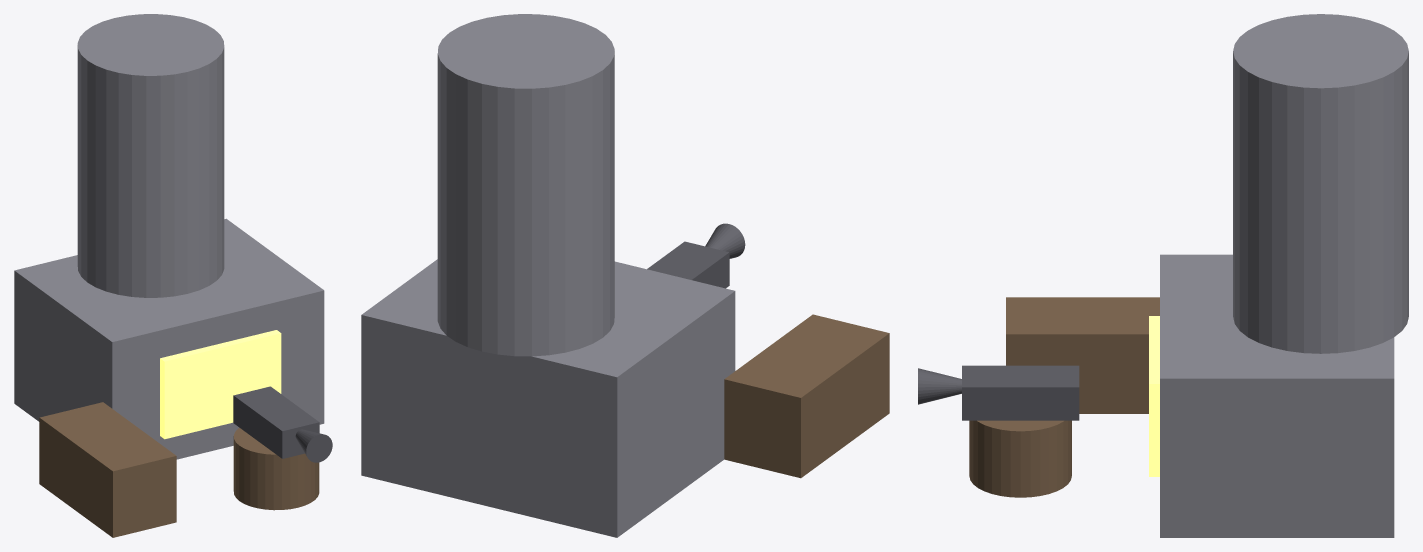
The model's file is Forja_Blacksmith_Lobby.fbx.
3 renders of one model, left to right at view 1: azimuth 30°, elevation 25°; view 2: azimuth 150°, elevation 25°; view 3: azimuth 270°, elevation 25°, orthographic. The views are drawn at different scales.
Parts seen in each view (by area): view 1: Chimney, Hearth_Base, Water_Trough, Fire_Chamber, Anvil_Stump, Anvil_Body, Anvil_Horn; view 2: Hearth_Base, Chimney, Water_Trough, Anvil_Body, Anvil_Horn; view 3: Chimney, Hearth_Base, Water_Trough, Anvil_Stump, Anvil_Body, Fire_Chamber, Anvil_Horn.
Part boxes in pixels (x1=…): Chimney: x1=77, y1=14, x2=224, y2=297; Hearth_Base: x1=14, y1=218, x2=324, y2=459; Water_Trough: x1=39, y1=402, x2=176, y2=537; Fire_Chamber: x1=160, y1=330, x2=281, y2=439; Anvil_Stump: x1=233, y1=428, x2=319, y2=510; Anvil_Body: x1=233, y1=386, x2=319, y2=458; Anvil_Horn: x1=295, y1=429, x2=332, y2=462; Hearth_Base: x1=361, y1=259, x2=735, y2=537; Chimney: x1=437, y1=14, x2=614, y2=356; Water_Trough: x1=724, y1=314, x2=889, y2=478; Anvil_Body: x1=647, y1=241, x2=729, y2=288; Anvil_Horn: x1=705, y1=223, x2=745, y2=258; Chimney: x1=1233, y1=14, x2=1408, y2=353; Hearth_Base: x1=1160, y1=254, x2=1394, y2=537; Water_Trough: x1=1006, y1=297, x2=1159, y2=413; Anvil_Stump: x1=969, y1=420, x2=1071, y2=497; Anvil_Body: x1=962, y1=365, x2=1079, y2=420; Fire_Chamber: x1=1149, y1=316, x2=1159, y2=476; Anvil_Horn: x1=918, y1=368, x2=961, y2=404.
Size of the model in its own units: 520 by 640 by 670.
